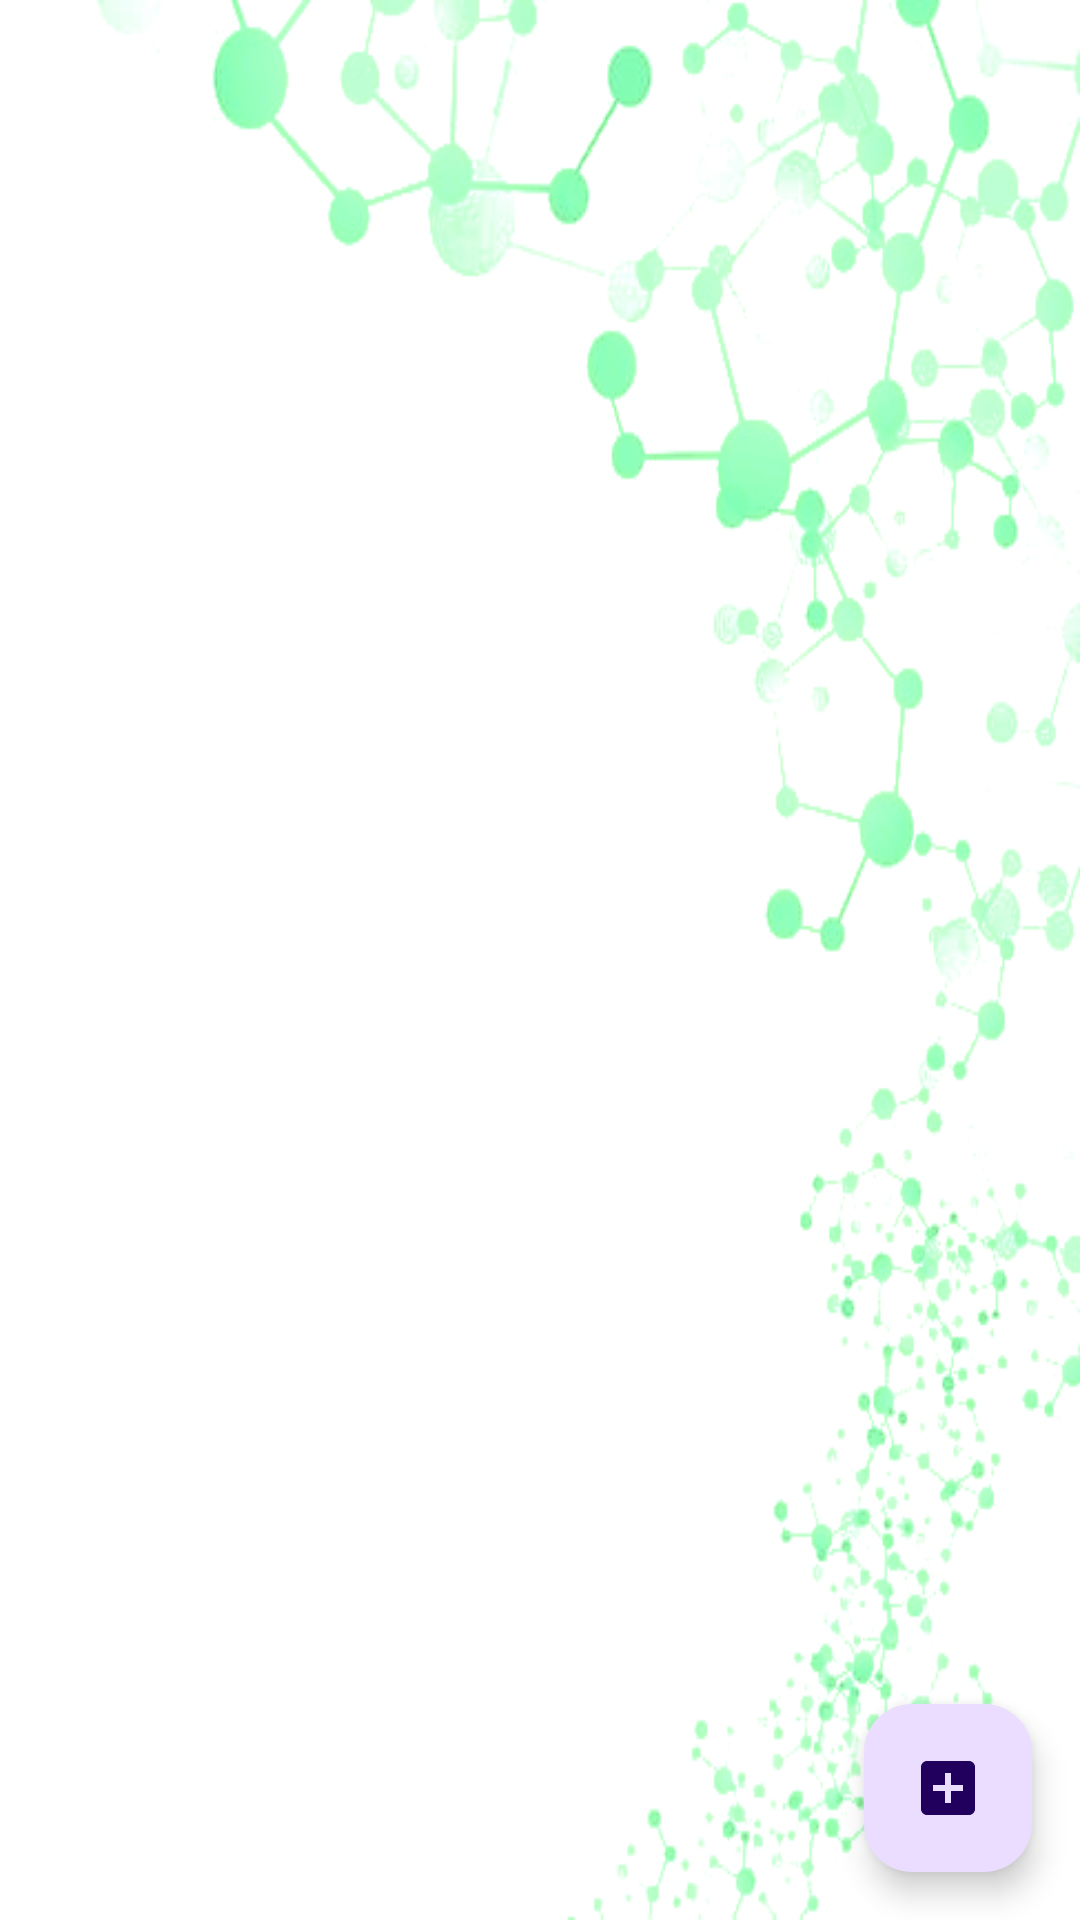

Named icons in this screenshot (1080px x 1920px) and their bounding boxes, (x1, y1, x2, y2):
Add contact: (864, 1704, 1032, 1872)
